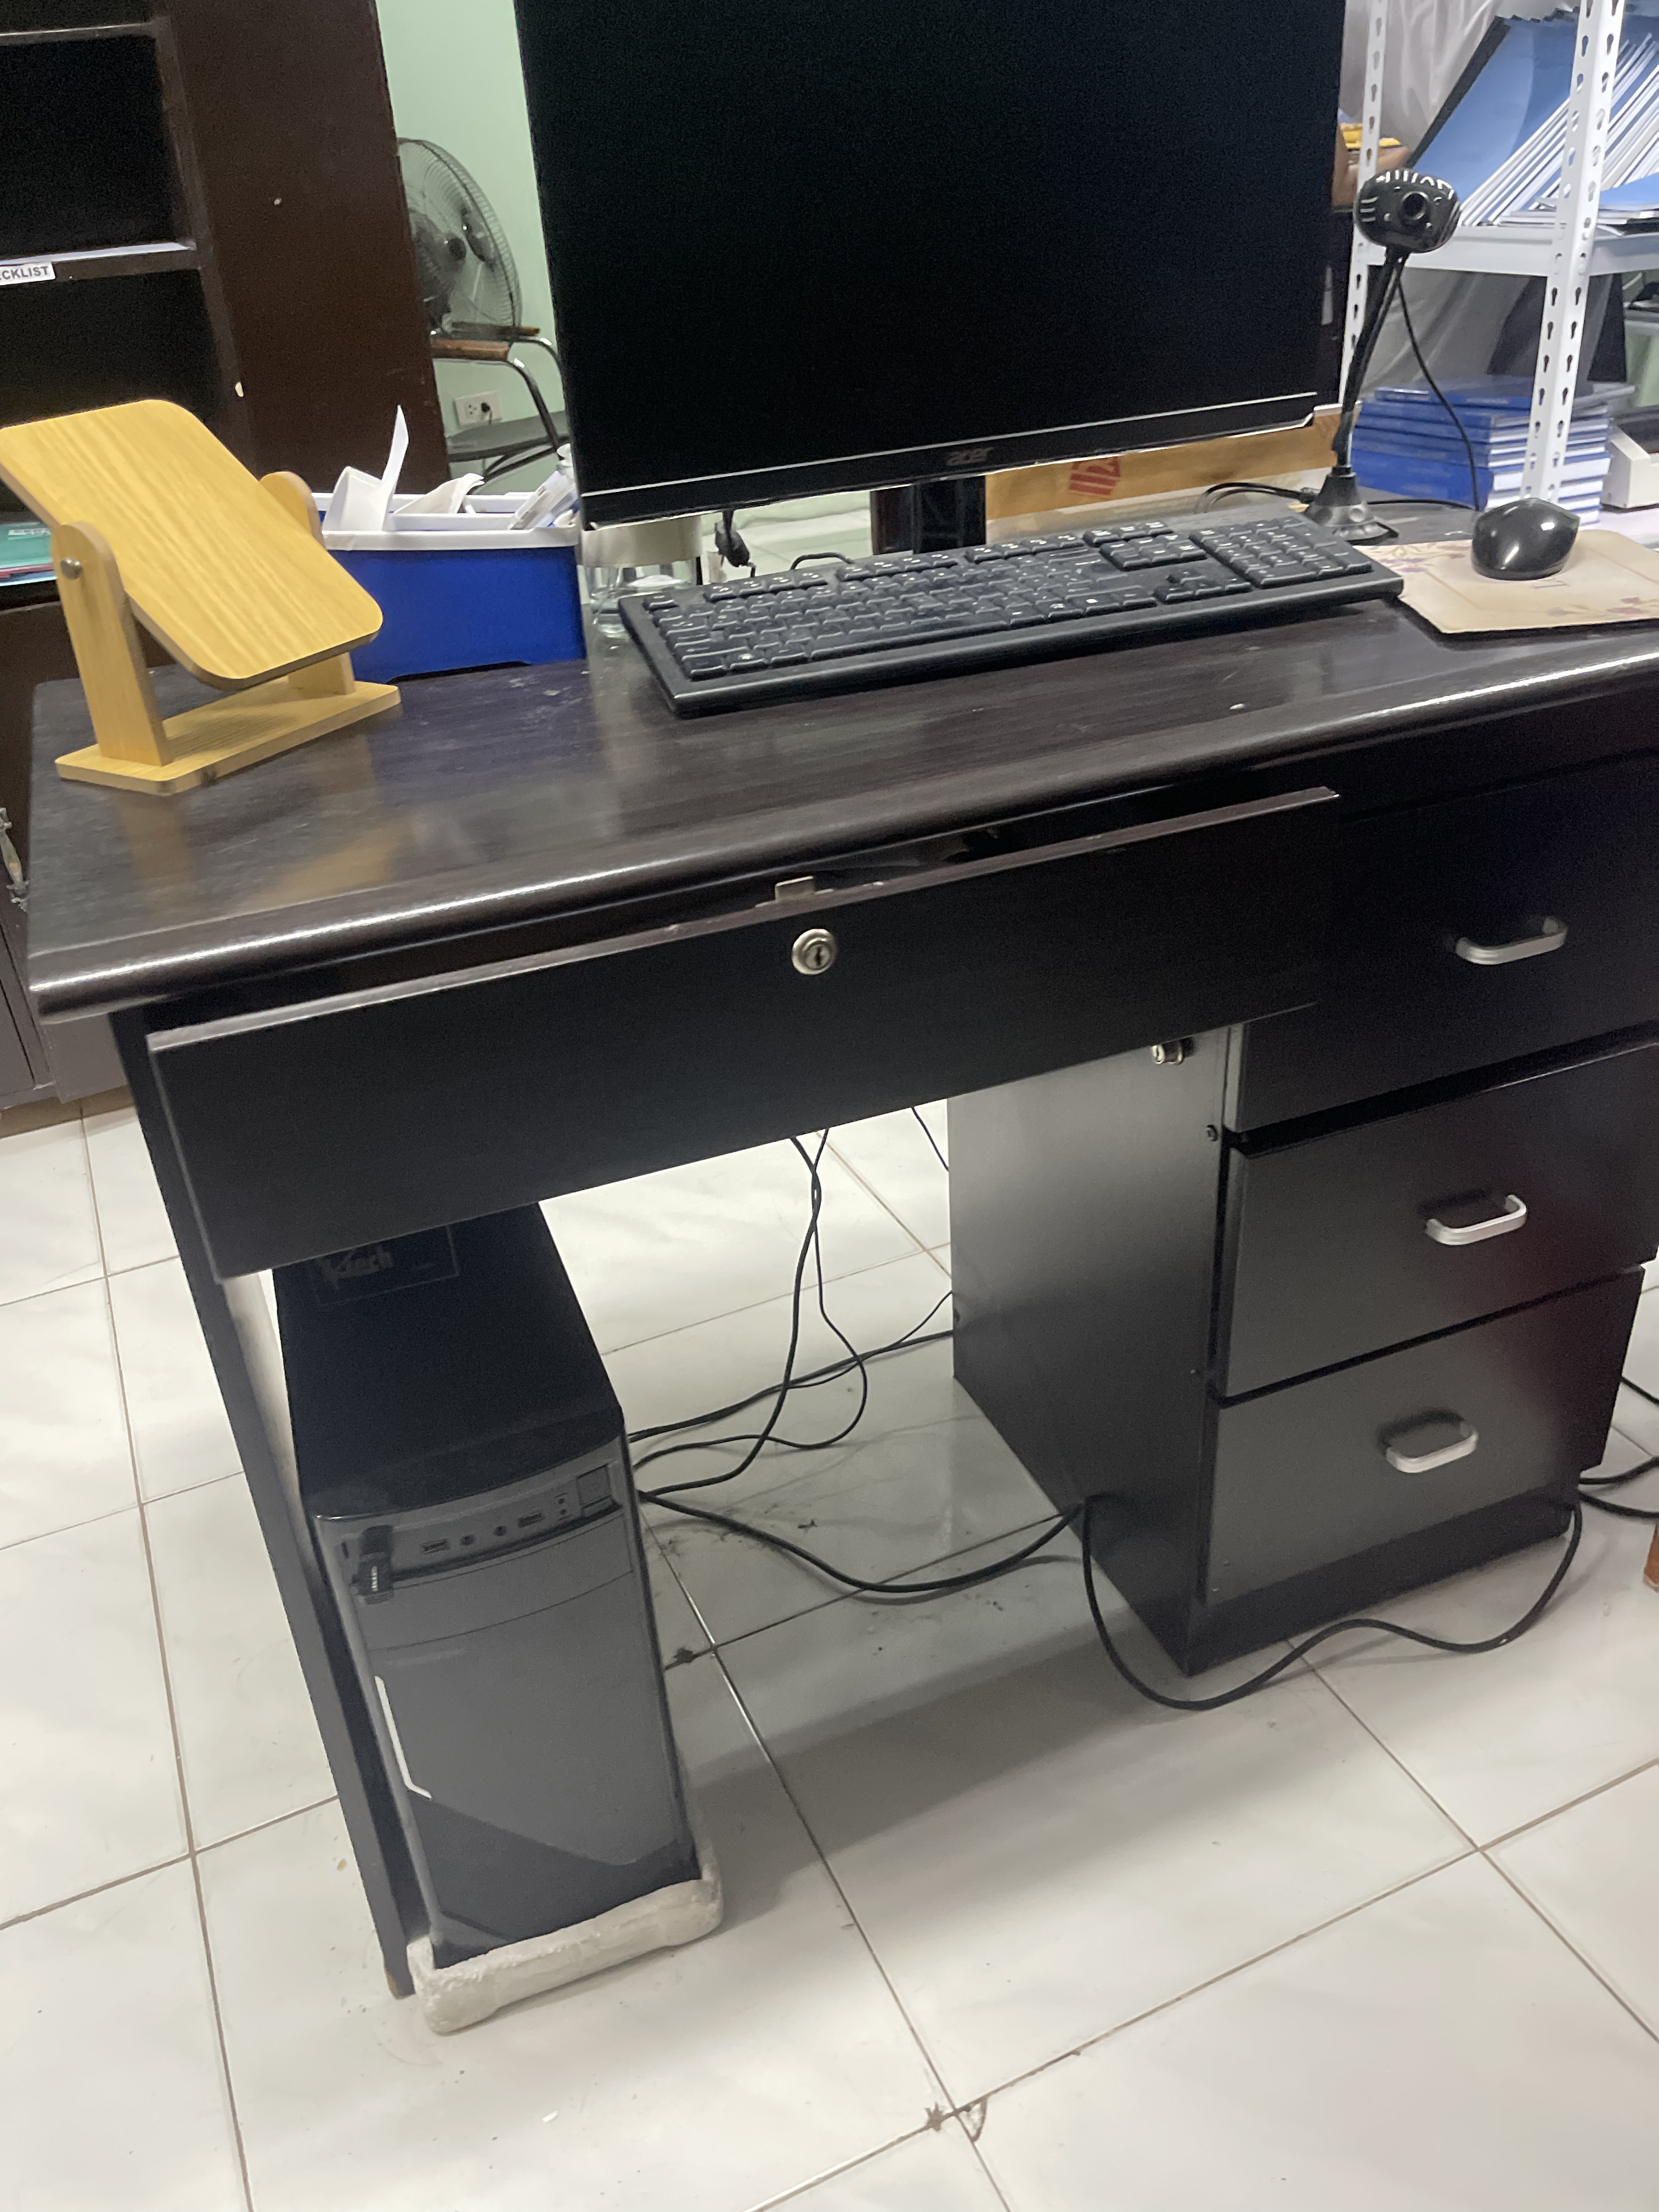table1: (24, 594, 1659, 2052)
